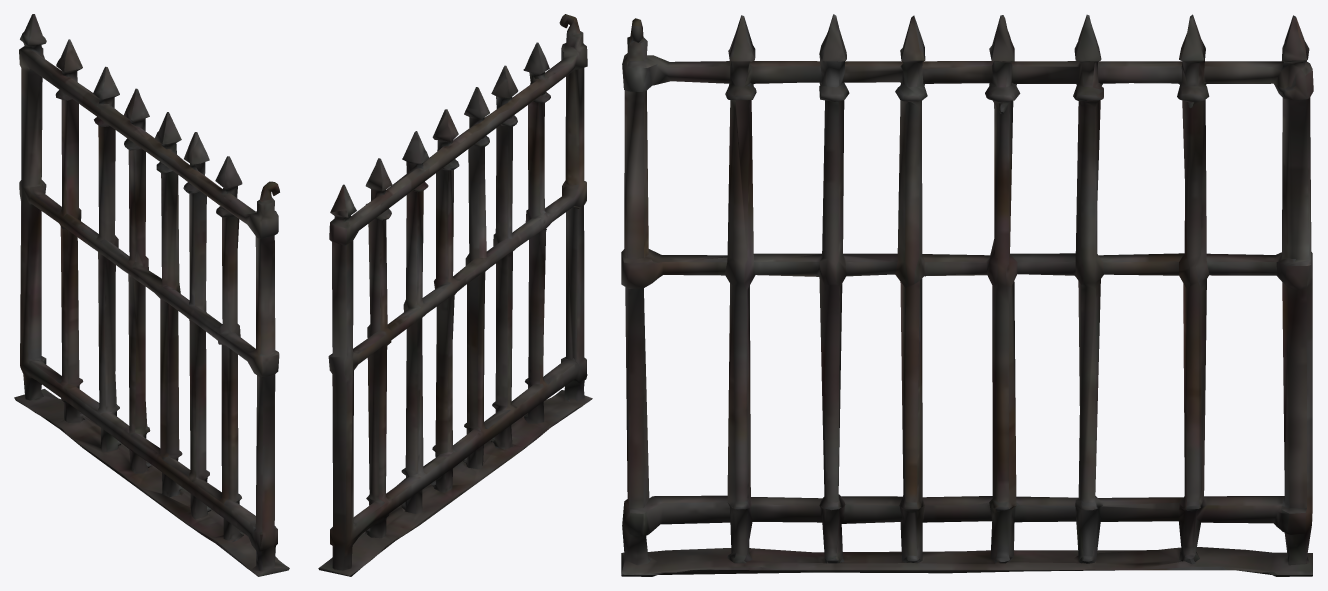
Rendered from sturdy-iron-portcullis-v001.glb.
The picture shows the model from 3 angles, left to right: view 1: azimuth 30°, elevation 25°; view 2: azimuth 150°, elevation 25°; view 3: azimuth 270°, elevation 25°; orthographic projection. The views are drawn at different scales.
Visible parts, largest first — view 1: sturdy-iron-portcullis; view 2: sturdy-iron-portcullis; view 3: sturdy-iron-portcullis.
Part boxes in pixels (box(x1,y1,x2,y2)): sturdy-iron-portcullis: box(14, 14, 289, 576); sturdy-iron-portcullis: box(318, 14, 592, 576); sturdy-iron-portcullis: box(621, 14, 1313, 576).
Bounding box in the file's own units: 0.2672 × 2.97 × 3.38.
1 material, 1 textured.
